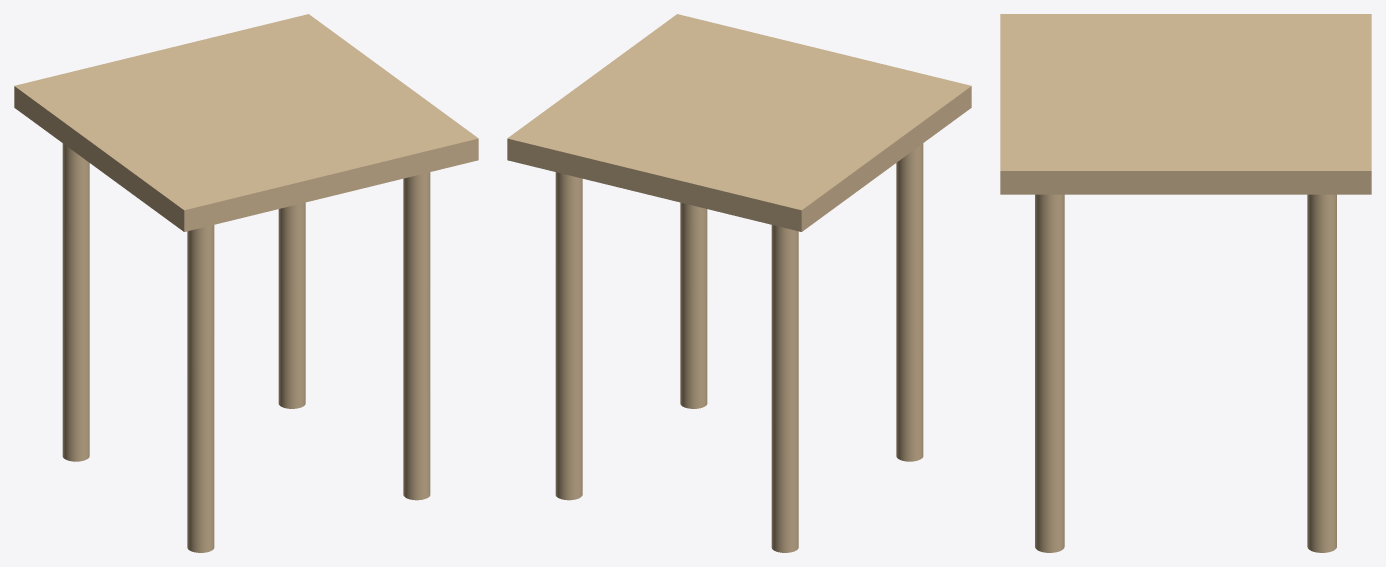
The model's file is ikea-gladom-70578451-g2-proxy.glb.
3 renders of one model, left to right at view 1: azimuth 30°, elevation 25°; view 2: azimuth 150°, elevation 25°; view 3: azimuth 270°, elevation 25°, orthographic. The views are drawn at different scales.
Visible parts, largest first — view 1: proxy_body, leg (×4); view 2: proxy_body, leg (×4); view 3: proxy_body, leg (×2).
Part boxes in pixels (x1=…): proxy_body: x1=14, y1=14, x2=478, y2=231; leg (×4): x1=62, y1=143, x2=430, y2=552; proxy_body: x1=507, y1=14, x2=971, y2=231; leg (×4): x1=555, y1=143, x2=923, y2=552; proxy_body: x1=1000, y1=14, x2=1371, y2=194; leg (×2): x1=1035, y1=194, x2=1336, y2=552.
Bounding box in the file's own units: 0.45 × 0.53 × 0.45.
